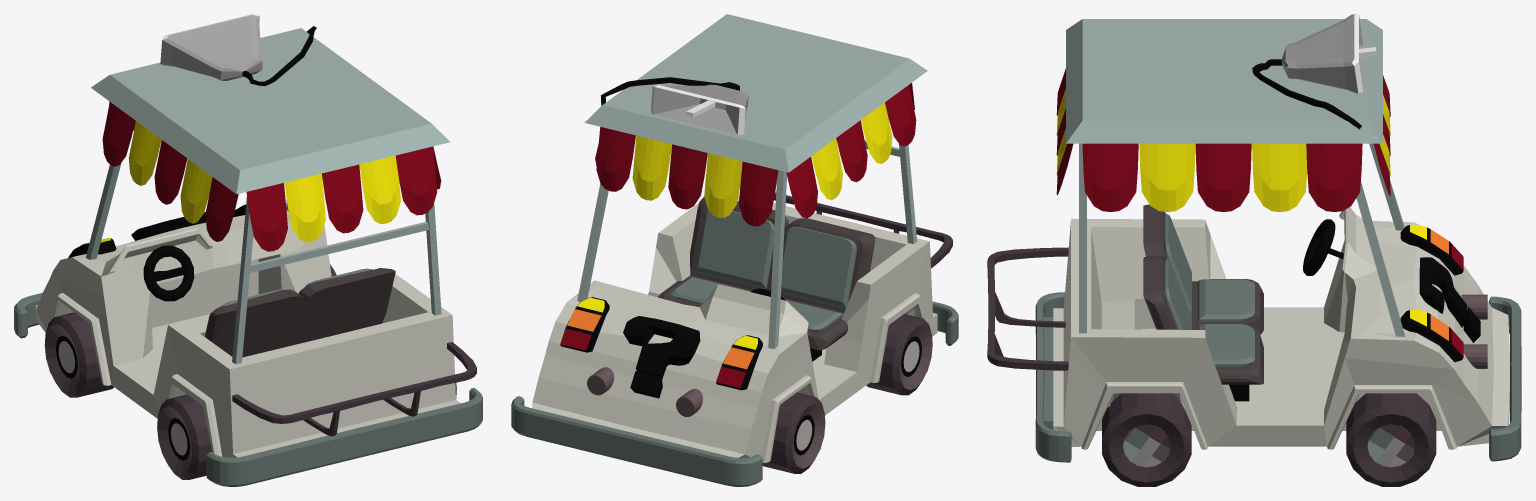
The model's file is kart.glb.
3 views of the same model, side by side, from view 1: azimuth 30°, elevation 25°; view 2: azimuth 150°, elevation 25°; view 3: azimuth 270°, elevation 25° (orthographic). The views are drawn at different scales.
Parts seen in each view (by area): view 1: kart, top, speaker, Cylinder.001, Cylinder.002; view 2: kart, top, speaker, Cylinder.001, Cylinder.002; view 3: kart, top, Cylinder.003, Cylinder.004, speaker.
Part boxes in pixels (x1=…): kart: x1=14, y1=204, x2=482, y2=486; top: x1=85, y1=28, x2=450, y2=364; speaker: x1=160, y1=14, x2=316, y2=85; Cylinder.001: x1=44, y1=312, x2=113, y2=397; Cylinder.002: x1=157, y1=394, x2=211, y2=479; kart: x1=511, y1=192, x2=958, y2=486; top: x1=577, y1=14, x2=927, y2=348; speaker: x1=601, y1=77, x2=748, y2=135; Cylinder.001: x1=762, y1=392, x2=825, y2=473; Cylinder.002: x1=866, y1=314, x2=932, y2=395; kart: x1=987, y1=204, x2=1521, y2=462; top: x1=1056, y1=19, x2=1404, y2=336; Cylinder.003: x1=1346, y1=393, x2=1436, y2=486; Cylinder.004: x1=1102, y1=393, x2=1191, y2=486; speaker: x1=1252, y1=14, x2=1376, y2=129.
Size of the model in its own units: 27.44 by 34.07 by 43.23.
Materials: 2 (2 with a texture image).
